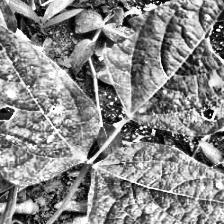Bean Rust: (0, 0, 101, 175), (102, 0, 224, 130), (89, 140, 224, 224)
